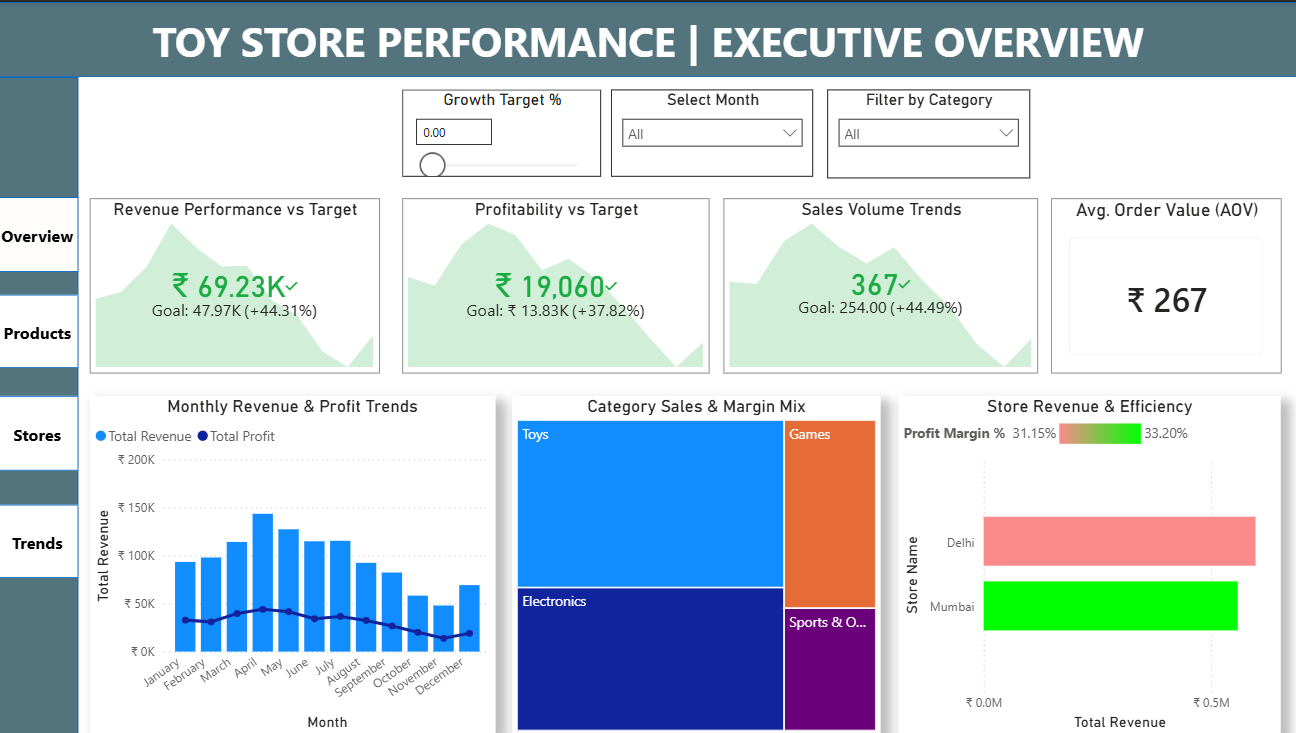

Layout of this report page (visuals, bound fields, positions):
{"tool":"powerbi","page":{"name":"Overview","canvas":[1280,720],"ordinal":0},"visuals":[{"type":"kpi","title":"Revenue Performance vs Target","fields":{"Indicator":["DAX.Total Revenue"],"Goal":["DAX.Dynamic Revenue Target"],"TrendLine":["sales_new.Date.Variation.Date Hierarchy.Month"]},"box":[92.5,192,284.5,172.1],"z":0},{"type":"slicer","title":"Growth Target %","fields":{"Values":["Growth Target.Growth Target"]},"box":[398.8,85.9,195.1,85.9],"z":1000},{"type":"slicer","title":"Select Month","fields":{"Values":["sales_new.Date.Variation.Date Hierarchy.Month"]},"box":[603.7,85.9,198.8,85.9],"z":2000},{"type":"lineStackedColumnComboChart","title":"Monthly Revenue & Profit Trends","fields":{"Category":["sales_new.Date.Variation.Date Hierarchy.Month"],"Y":["DAX.Total Revenue"],"Y2":["DAX.Total Profit"]},"box":[92.5,386.9,398.3,332.9],"z":3000},{"type":"treemap","title":"Category Sales & Margin Mix","fields":{"Group":["products_new.Product_Category"],"Values":["DAX.Total Revenue"]},"box":[506.8,386.5,362,333.7],"z":4000},{"type":"clusteredBarChart","title":"Store Revenue & Efficiency","fields":{"Category":["store.Store_Name"],"Y":["DAX.Total Revenue"]},"box":[886.2,386.9,375.6,332.9],"z":5000},{"type":"slicer","title":"Filter by Category","fields":{"Values":["products_new.Product_Category"]},"box":[816.2,85.5,198.9,86.9],"z":6000},{"type":"kpi","title":"Profitability vs Target","fields":{"Indicator":["DAX.Total Profit"],"TrendLine":["sales_new.Date.Variation.Date Hierarchy.Month"],"Goal":["DAX.Profit Target"]},"box":[398.3,192,301.6,172.1],"z":7000},{"type":"kpi","title":"Sales Volume Trends","fields":{"Indicator":["DAX.Total Units Sold"],"TrendLine":["sales_new.Date.Variation.Date Hierarchy.Month"],"Goal":["DAX.Unit Target"]},"box":[714.1,192,308.7,172.1],"z":8000},{"type":"cardVisual","title":"Avg. Order Value (AOV)","fields":{"Data":["DAX.Average Order Value"]},"box":[1035.6,192,226.2,172.1],"z":9000},{"type":"shape","box":[0,0,1280.3,74],"z":10000},{"type":"shape","box":[0,74,81.1,645.8],"z":11000},{"type":"shape","box":[0,191.5,81,73.7],"z":12000},{"type":"shape","box":[0,287.3,81,72.2],"z":13000},{"type":"shape","box":[0,386,81,73.7],"z":14000},{"type":"shape","box":[0,493.6,81,72.2],"z":15000}]}

Visuals, with their boxes on the page's 1280x720 design canvas (x1, y1, x2, y2). These are canvas units, not pixel positions in the 1296x733 screenshot, which may show the page scaled, cropped or inside an application window:
"Revenue Performance vs Target" kpi: [92,192,377,364]
"Growth Target %" slicer: [399,86,594,172]
"Select Month" slicer: [604,86,802,172]
"Monthly Revenue & Profit Trends" lineStackedColumnComboChart: [92,387,491,720]
"Category Sales & Margin Mix" treemap: [507,386,869,720]
"Store Revenue & Efficiency" clusteredBarChart: [886,387,1262,720]
"Filter by Category" slicer: [816,86,1015,172]
"Profitability vs Target" kpi: [398,192,700,364]
"Sales Volume Trends" kpi: [714,192,1023,364]
"Avg. Order Value (AOV)" cardVisual: [1036,192,1262,364]
shape: [0,0,1280,74]
shape: [0,74,81,720]
shape: [0,192,81,265]
shape: [0,287,81,360]
shape: [0,386,81,460]
shape: [0,494,81,566]
